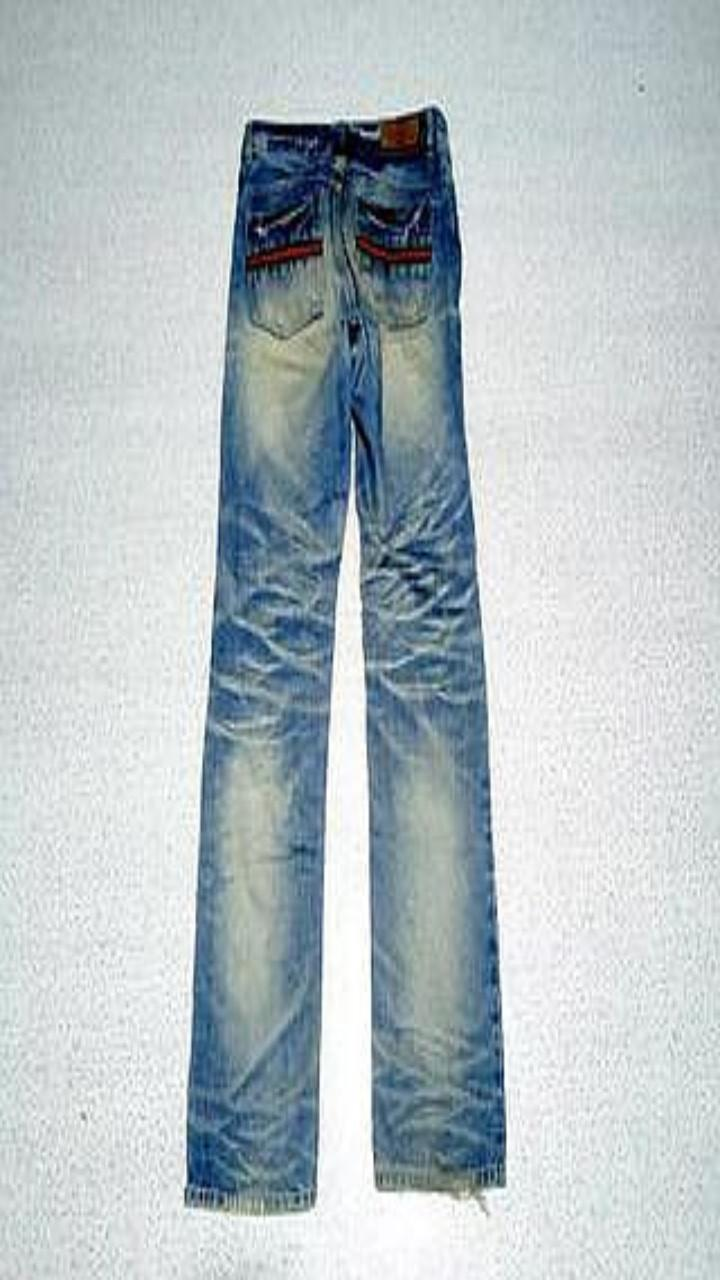Jeans: (184, 105, 505, 1212)
